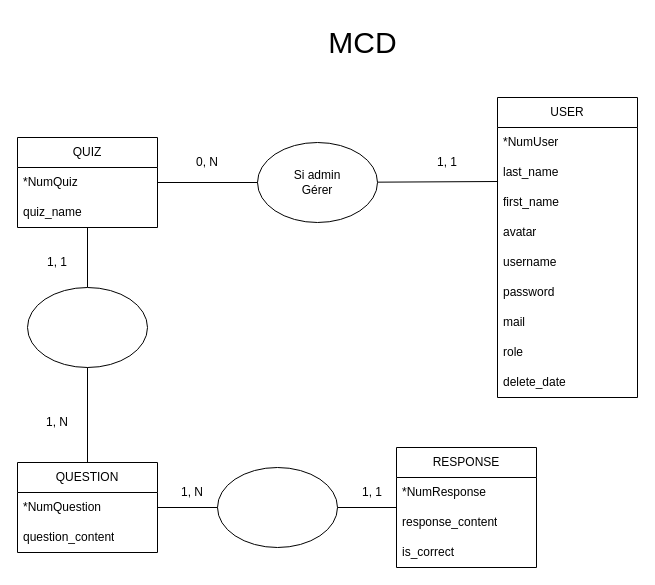
Image size: 655x585. Some labels were removed from this diagram. Here are the shapes that lost their labels. From the top down, the box of each, then its label:
(26, 286, 148, 368): Appartient
(216, 466, 338, 548): Posséder
